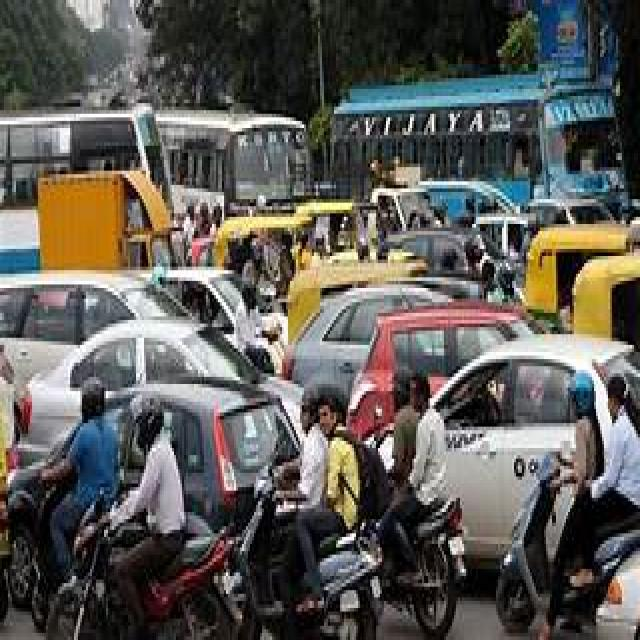Auto: (528, 229, 640, 346)
Bus: (0, 73, 624, 214)
Car: (0, 269, 529, 461), (436, 340, 640, 566), (108, 382, 299, 529), (348, 304, 526, 437), (9, 464, 51, 604), (369, 424, 391, 463)
Two Wheeler: (144, 464, 385, 639), (46, 518, 144, 638), (566, 516, 640, 639), (496, 460, 549, 630), (404, 498, 465, 637)
